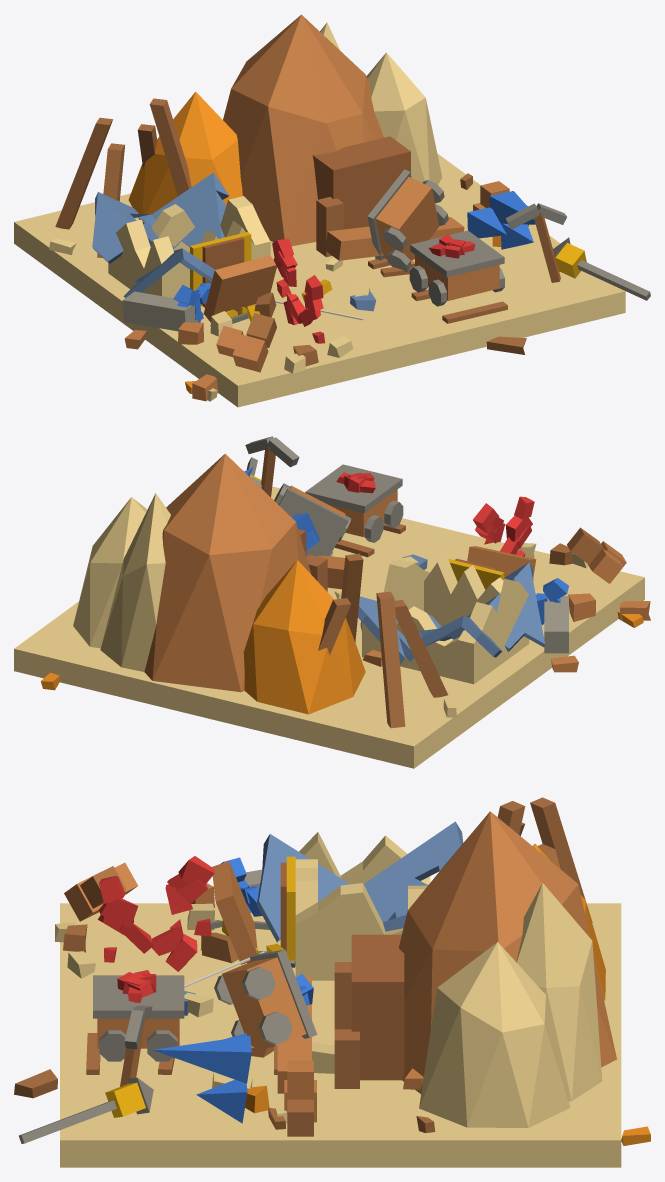
The model's file is mine_t3_v2_dmg2.glb.
The picture shows the model from 3 angles, top to bottom: view 1: azimuth 30°, elevation 25°; view 2: azimuth 150°, elevation 25°; view 3: azimuth 270°, elevation 25°; orthographic projection. The views are drawn at different scales.
Parts seen in each view (by area): view 1: mine_t3_v2_dmg2; view 2: mine_t3_v2_dmg2; view 3: mine_t3_v2_dmg2.
Part boxes in pixels (x1=…): mine_t3_v2_dmg2: x1=14, y1=14, x2=650, y2=407; mine_t3_v2_dmg2: x1=14, y1=436, x2=650, y2=768; mine_t3_v2_dmg2: x1=14, y1=797, x2=650, y2=1167.
Bounding box in the file's own units: 0.8212 × 0.388 × 0.8512.
Materials: 1 (1 with a texture image).
